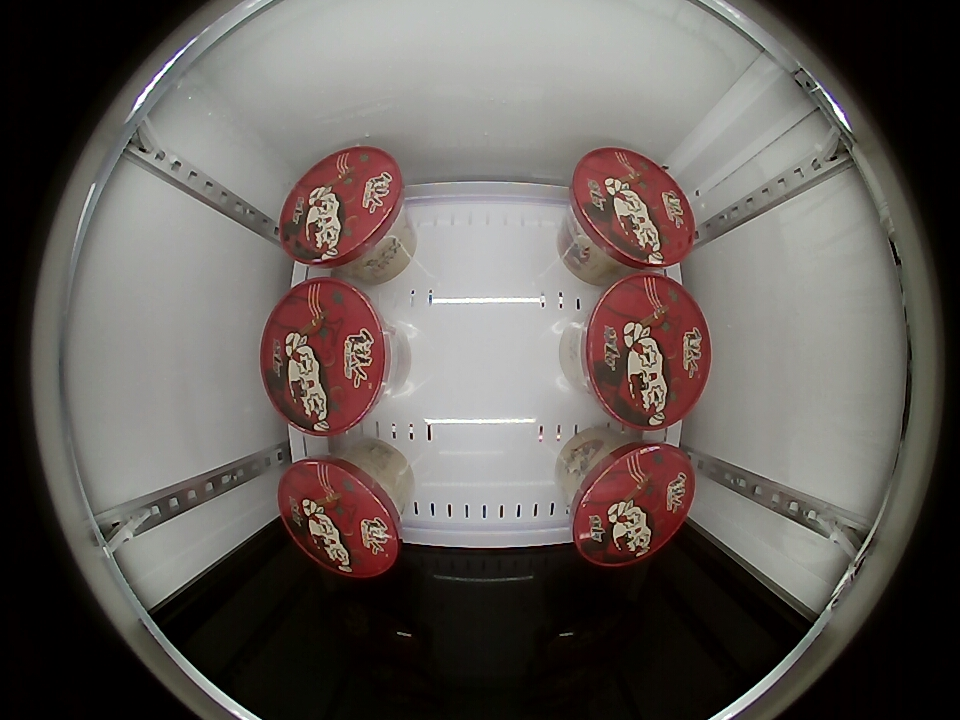suanlafen: (577, 273, 712, 430), (261, 278, 395, 436), (568, 440, 697, 566), (568, 148, 695, 273), (279, 147, 406, 272), (277, 454, 406, 577)
